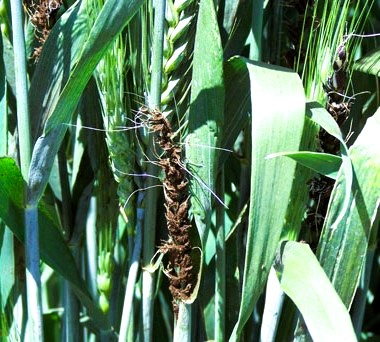Wheat Loose Smut: (160, 160, 206, 271)
